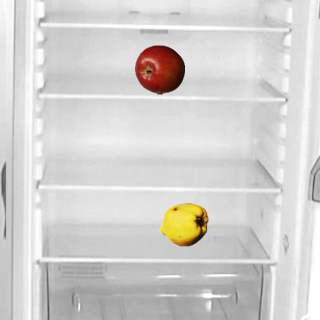Apple Braeburn: (134, 44, 184, 94)
Quince: (158, 199, 208, 249)
